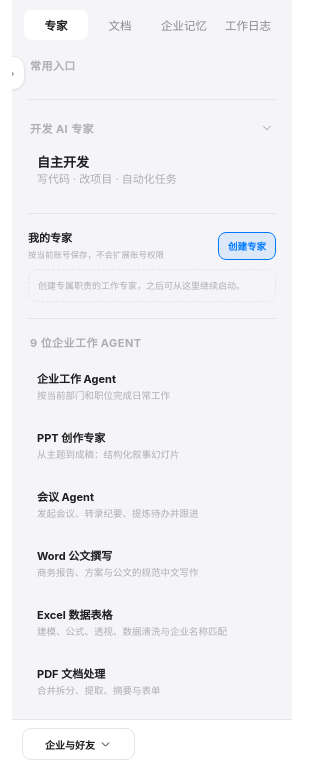
Test: RightPanel fixed Agent catalog › lets enterprise admins revise knowledge and inspect its audit history
Click the tab "企业记忆" at (184, 25), box x1=152 y1=10 x2=216 y2=40
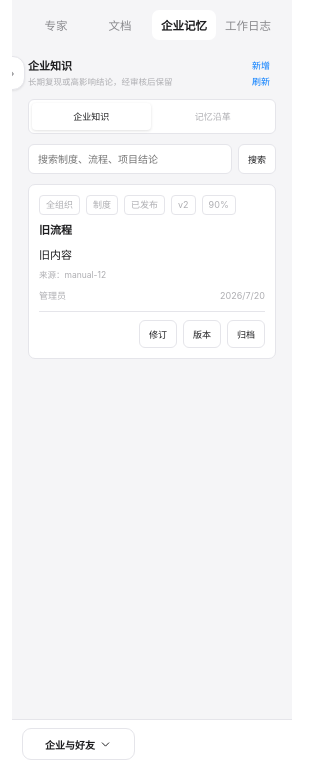
Check: the text "旧内容" is shown, box x1=39 y1=248 x2=72 y2=262
Click the button "修订" at (158, 334), box x1=139 y1=320 x2=177 y2=348
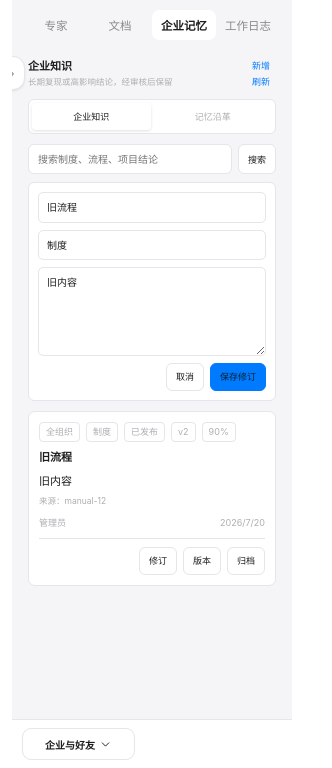
Replace the text in the text box named "知识内容" with "新内容" at (152, 311), box x1=38 y1=267 x2=266 y2=356
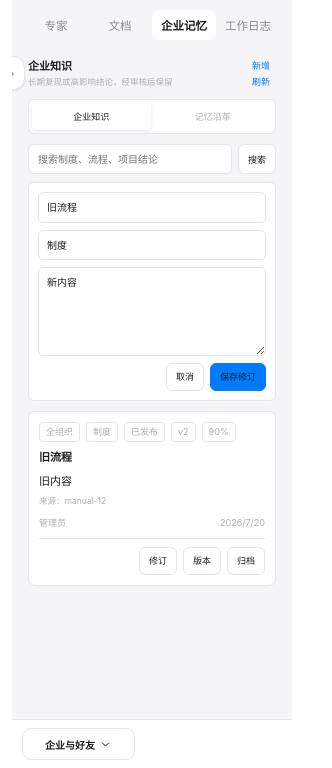
Click the button "保存修订" at (238, 377), box x1=210 y1=363 x2=266 y2=391
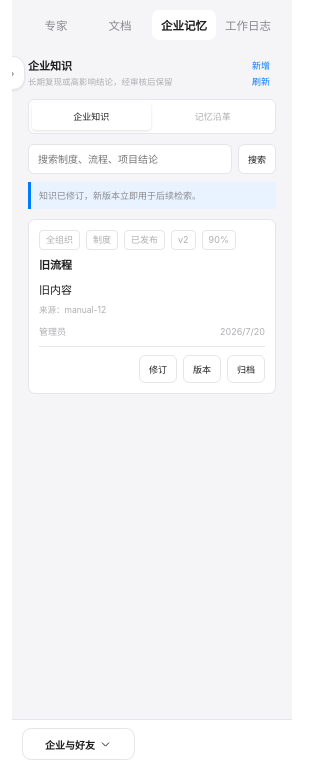
Click the button "版本" at (202, 370), box x1=183 y1=356 x2=221 y2=384
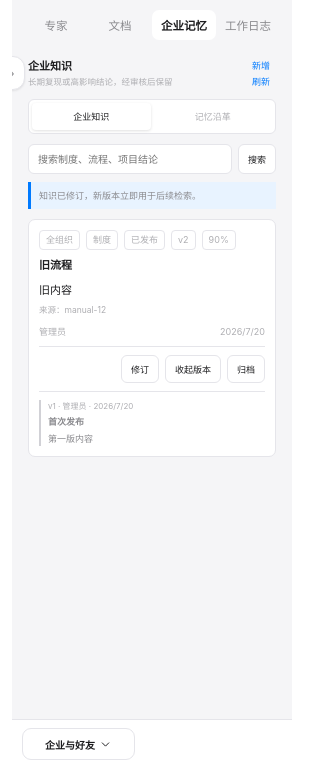
Check: the text "首次发布" is shown, box x1=48 y1=416 x2=84 y2=427
